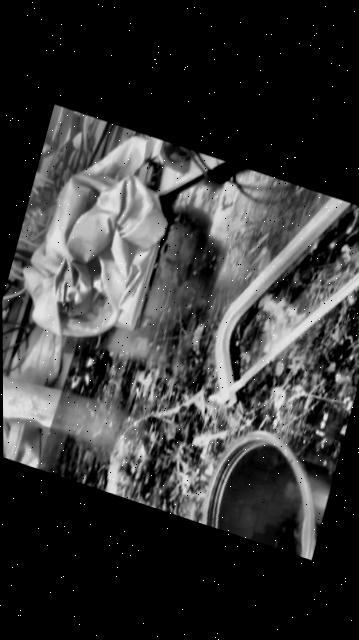pot: (199, 419, 338, 562)
